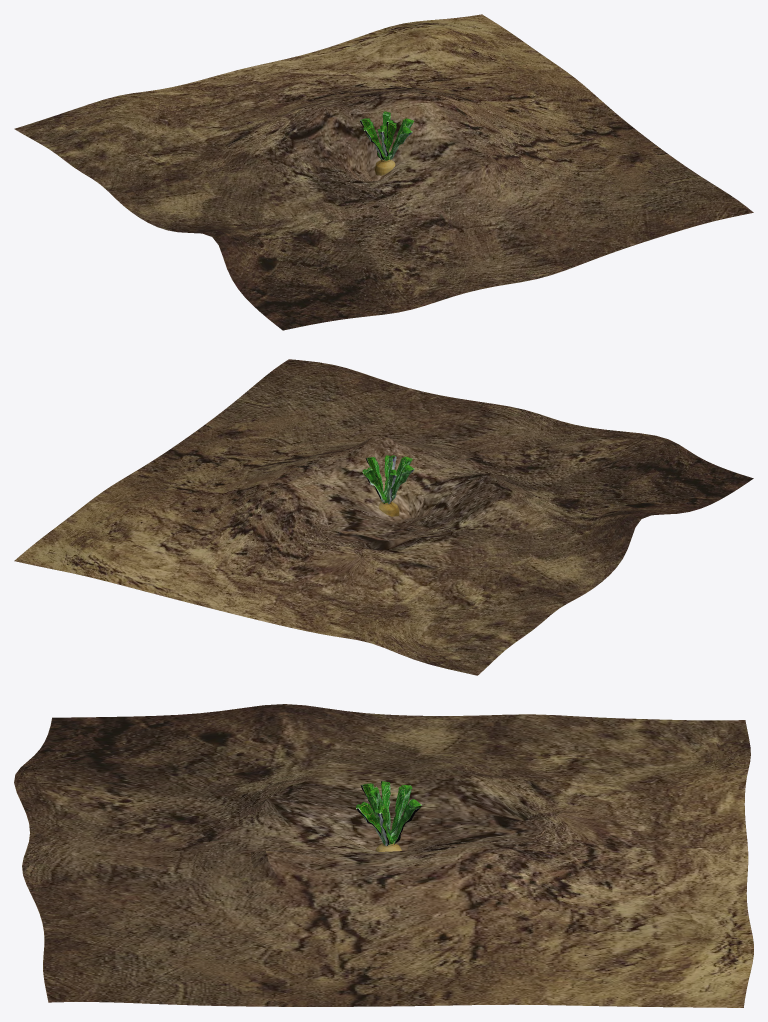
File: Parnship.glb
The picture shows the model from 3 angles, top to bottom: view 1: azimuth 30°, elevation 25°; view 2: azimuth 150°, elevation 25°; view 3: azimuth 270°, elevation 25°; orthographic projection. The views are drawn at different scales.
Parts seen in each view (by area): view 1: Plane; view 2: Plane; view 3: Plane.
Part boxes in pixels (x1,y1,x2,y2): Plane: (14,14,753,330); Plane: (14,359,753,675); Plane: (14,704,753,1007).
Size of the model in its own units: 36.21 by 6.13 by 38.67.
Materials: 9 (9 with a texture image).
